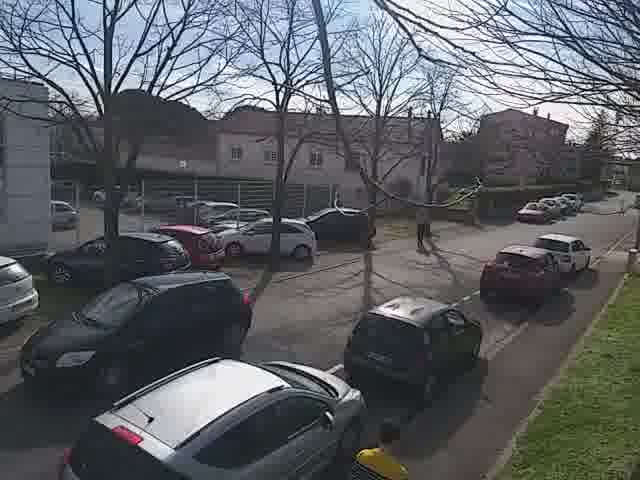persona: (411, 196, 431, 247)
